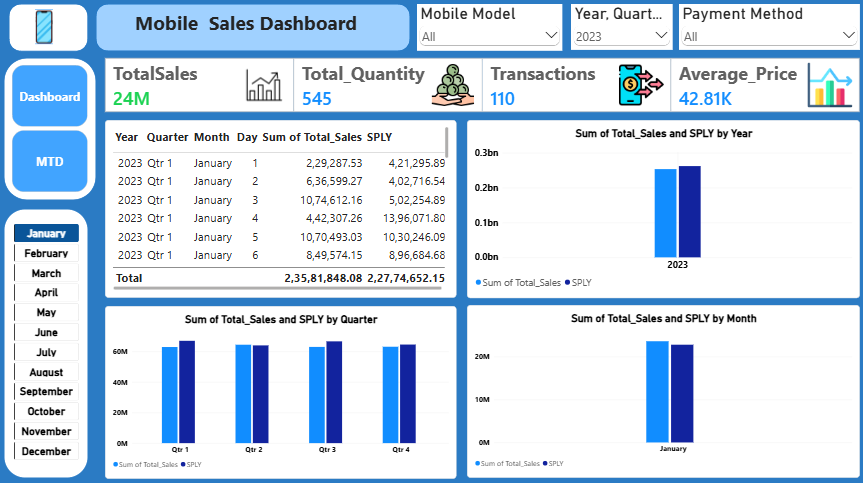

What the dashboard file says about the page in this screenshot:
{"tool":"powerbi","page":{"name":"SPLY","canvas":[1920,1080],"ordinal":2},"visuals":[{"type":"shape","box":[22.5,10,175,105],"z":0},{"type":"image","box":[80,22.5,40,77.5],"z":1000},{"type":"shape","box":[11.1,131.1,204.4,315.6],"z":2000},{"type":"cardVisual","fields":{"Data":["Mobile Sales Data.TotalSales","Mobile Sales Data.Total_Units_Sold","Mobile Sales Data.Transactions","Mobile Sales Data.Average_Price"]},"box":[235.6,131.1,1677.8,120],"z":3000},{"type":"slicer","fields":{"Values":["Mobile Sales Data.Mobile Model"]},"box":[929.8,10.6,323.4,104.3],"z":4000},{"type":"slicer","fields":{"Values":["Mobile Sales Data.Payment Method"]},"box":[1510.6,10.6,402.1,102.1],"z":5000},{"type":"slicer","fields":{"Values":["Date Calender.Date.Variation.Date Hierarchy.Year","Date Calender.Date.Variation.Date Hierarchy.Quarter","Date Calender.Date.Variation.Date Hierarchy.Month","Date Calender.Date.Variation.Date Hierarchy.Day"]},"box":[1270.2,10.6,225.5,102.1],"z":6000},{"type":"shape","box":[215,10,697.8,104.4],"z":7000},{"type":"textbox","box":[269.8,23.3,560.5,69.8],"z":8000},{"type":"shape","box":[11.1,466.7,186.7,597.8],"z":9000},{"type":"tableEx","fields":{"Values":["Date Calender.Date.Variation.Date Hierarchy.Year","Date Calender.Date.Variation.Date Hierarchy.Quarter","Date Calender.Date.Variation.Date Hierarchy.Month","Date Calender.Date.Variation.Date Hierarchy.Day","Sum(Mobile Sales Data.Total_Sales)","Mobile Sales Data.SPLY"]},"box":[234.9,269.8,781.4,395.3],"z":10000},{"type":"clusteredColumnChart","fields":{"Y":["Sum(Mobile Sales Data.Total_Sales)","Mobile Sales Data.SPLY"],"Category":["Date Calender.Date.Variation.Date Hierarchy.Year","Date Calender.Date.Variation.Date Hierarchy.Quarter","Date Calender.Date.Variation.Date Hierarchy.Month","Date Calender.Date.Variation.Date Hierarchy.Day"]},"box":[1040,680,873.3,384.4],"z":11000},{"type":"clusteredColumnChart","fields":{"Category":["Date Calender.Date.Variation.Date Hierarchy.Year","Date Calender.Date.Variation.Date Hierarchy.Quarter"],"Y":["Sum(Mobile Sales Data.Total_Sales)","Mobile Sales Data.SPLY"]},"box":[234.9,681.4,781.4,383.7],"z":12000},{"type":"clusteredColumnChart","fields":{"Category":["Date Calender.Date.Variation.Date Hierarchy.Year","Date Calender.Date.Variation.Date Hierarchy.Quarter"],"Y":["Sum(Mobile Sales Data.Total_Sales)","Mobile Sales Data.SPLY"]},"box":[1040,268.9,873.3,395.6],"z":13000},{"type":"pageNavigator","box":[28.9,146.7,168.9,282.2],"z":14000},{"type":"advancedSlicerVisual","fields":{"Values":["Date Calender.Date.Variation.Date Hierarchy.Month"]},"box":[32.6,500,144,526],"z":15000}]}

Visuals, with their boxes in screenshot pixels (x1, y1, x2, y2), scaled from the page's 1920x1080 canvas onto the 863x483 screenshot:
shape: locate(10, 4, 89, 51)
image: locate(36, 10, 54, 45)
shape: locate(5, 59, 97, 200)
cardVisual - Mobile Sales Data.TotalSales x Mobile Sales Data.Total_Units_Sold: locate(106, 59, 860, 112)
slicer - Mobile Sales Data.Mobile Model: locate(418, 5, 563, 51)
slicer - Mobile Sales Data.Payment Method: locate(679, 5, 860, 50)
slicer - Date Calender.Date.Variation.Date Hierarchy.Year x Date Calender.Date.Variation.Date Hierarchy.Quarter: locate(571, 5, 672, 50)
shape: locate(97, 4, 410, 51)
textbox: locate(121, 10, 373, 42)
shape: locate(5, 209, 89, 476)
tableEx - Date Calender.Date.Variation.Date Hierarchy.Year x Date Calender.Date.Variation.Date Hierarchy.Quarter: locate(106, 121, 457, 297)
clusteredColumnChart - Sum(Mobile Sales Data.Total_Sales) x Mobile Sales Data.SPLY: locate(467, 304, 860, 476)
clusteredColumnChart - Date Calender.Date.Variation.Date Hierarchy.Year x Date Calender.Date.Variation.Date Hierarchy.Quarter: locate(106, 305, 457, 476)
clusteredColumnChart - Date Calender.Date.Variation.Date Hierarchy.Year x Date Calender.Date.Variation.Date Hierarchy.Quarter: locate(467, 120, 860, 297)
pageNavigator: locate(13, 66, 89, 192)
advancedSlicerVisual - Date Calender.Date.Variation.Date Hierarchy.Month: locate(15, 224, 79, 459)
